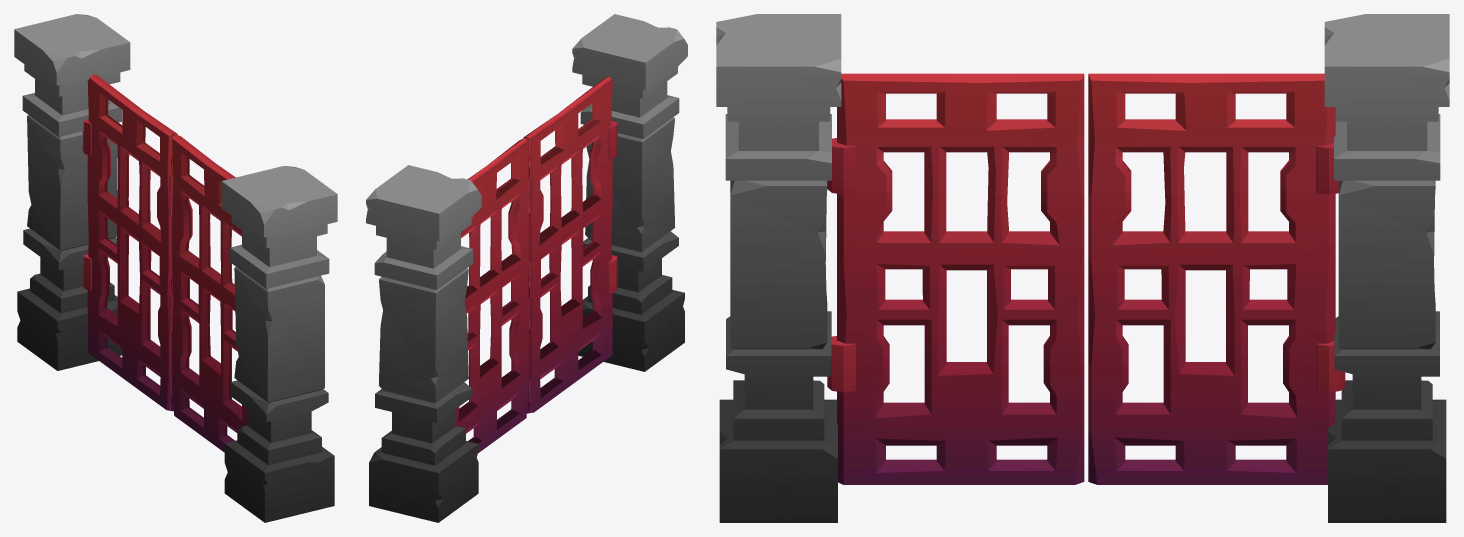
Rendered from diyu_guaishou.fbx.
The picture shows the model from 3 angles, left to right: view 1: azimuth 30°, elevation 25°; view 2: azimuth 150°, elevation 25°; view 3: azimuth 270°, elevation 25°; orthographic projection. The views are drawn at different scales.
Visible parts, largest first — view 1: SM_Bld_Ruin_Pillar_01, SM_Bld_Ruin_Pillar_03, SM_Env_Dwarf_Wall_DoorFrame_Double_01_Door_02, SM_Env_Dwarf_Wall_DoorFrame_Double_01_Door_01; view 2: SM_Bld_Ruin_Pillar_03, SM_Bld_Ruin_Pillar_01, SM_Env_Dwarf_Wall_DoorFrame_Double_01_Door_01, SM_Env_Dwarf_Wall_DoorFrame_Double_01_Door_02; view 3: SM_Env_Dwarf_Wall_DoorFrame_Double_01_Door_01, SM_Env_Dwarf_Wall_DoorFrame_Double_01_Door_02, SM_Bld_Ruin_Pillar_01, SM_Bld_Ruin_Pillar_03.
Part boxes in pixels (<box>): SM_Bld_Ruin_Pillar_01: <box>221,166,337,522</box>; SM_Bld_Ruin_Pillar_03: <box>14,14,130,370</box>; SM_Env_Dwarf_Wall_DoorFrame_Double_01_Door_02: <box>82,74,177,411</box>; SM_Env_Dwarf_Wall_DoorFrame_Double_01_Door_01: <box>172,134,247,452</box>; SM_Bld_Ruin_Pillar_03: <box>366,165,481,522</box>; SM_Bld_Ruin_Pillar_01: <box>572,14,687,371</box>; SM_Env_Dwarf_Wall_DoorFrame_Double_01_Door_01: <box>523,76,617,413</box>; SM_Env_Dwarf_Wall_DoorFrame_Double_01_Door_02: <box>455,138,528,453</box>; SM_Env_Dwarf_Wall_DoorFrame_Double_01_Door_01: <box>827,73,1084,484</box>; SM_Env_Dwarf_Wall_DoorFrame_Double_01_Door_02: <box>1088,73,1345,484</box>; SM_Bld_Ruin_Pillar_01: <box>716,14,841,522</box>; SM_Bld_Ruin_Pillar_03: <box>1324,14,1449,522</box>.
Size of the model in its own units: 231 by 936 by 1359.
